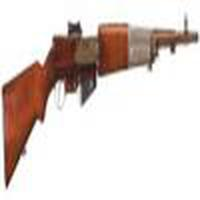gun: (3, 19, 200, 185)
